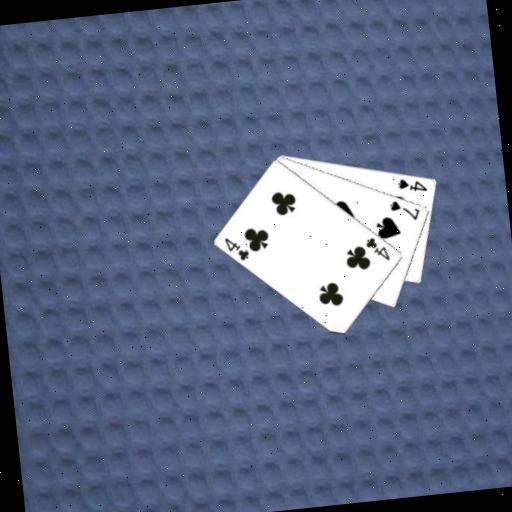4C: (222, 232, 252, 264), (362, 233, 392, 264)
4S: (395, 174, 429, 196)
7S: (387, 195, 423, 224)
